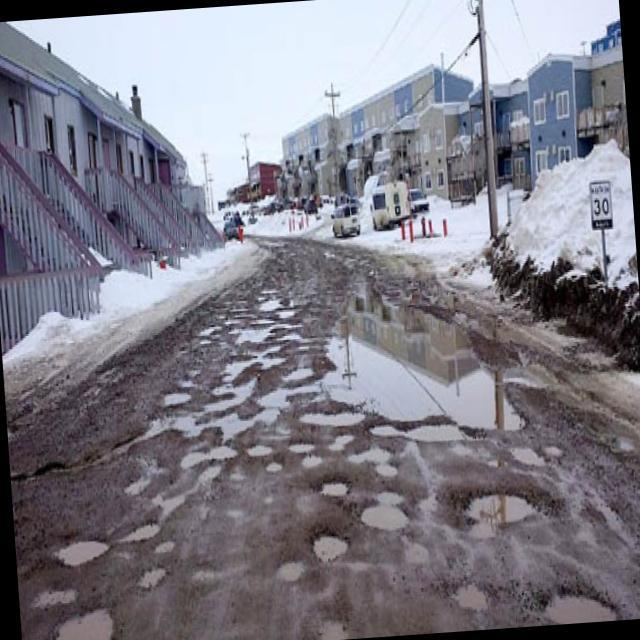Pothole: (322, 236, 572, 445), (142, 402, 286, 456), (453, 472, 558, 546), (157, 439, 246, 523), (525, 564, 626, 626), (211, 346, 296, 406), (433, 564, 504, 622), (50, 518, 117, 574), (373, 416, 469, 455), (46, 595, 127, 640), (358, 476, 414, 539), (500, 436, 553, 485), (230, 316, 313, 346), (306, 522, 352, 570), (302, 402, 373, 432), (258, 368, 318, 402), (130, 568, 180, 604), (598, 424, 640, 464), (112, 468, 160, 502), (119, 516, 168, 544), (314, 474, 354, 504), (168, 376, 210, 396), (334, 428, 362, 457), (196, 321, 220, 354), (152, 392, 196, 409), (153, 538, 190, 556), (261, 459, 286, 482), (179, 366, 212, 382), (303, 452, 327, 469)
